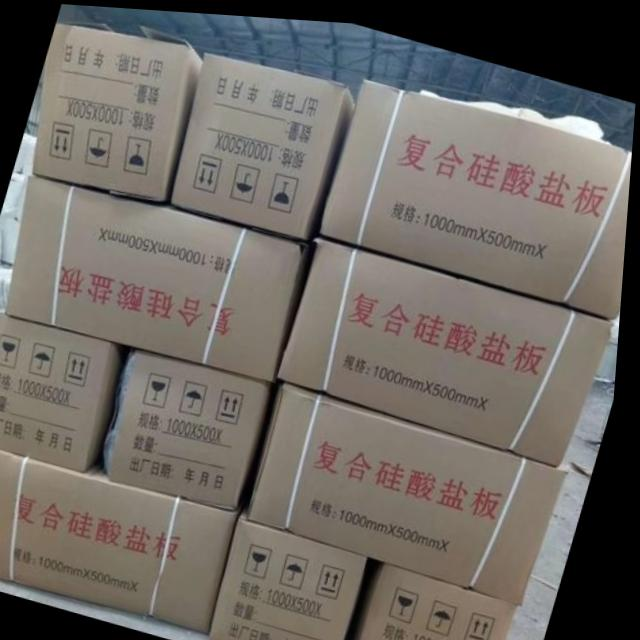box: (281, 234, 619, 459), (323, 73, 634, 311), (254, 377, 576, 597), (9, 173, 314, 378), (0, 446, 247, 630), (173, 49, 356, 237), (35, 22, 203, 199), (111, 346, 277, 507), (217, 506, 375, 640), (0, 308, 128, 471), (366, 556, 526, 640)
